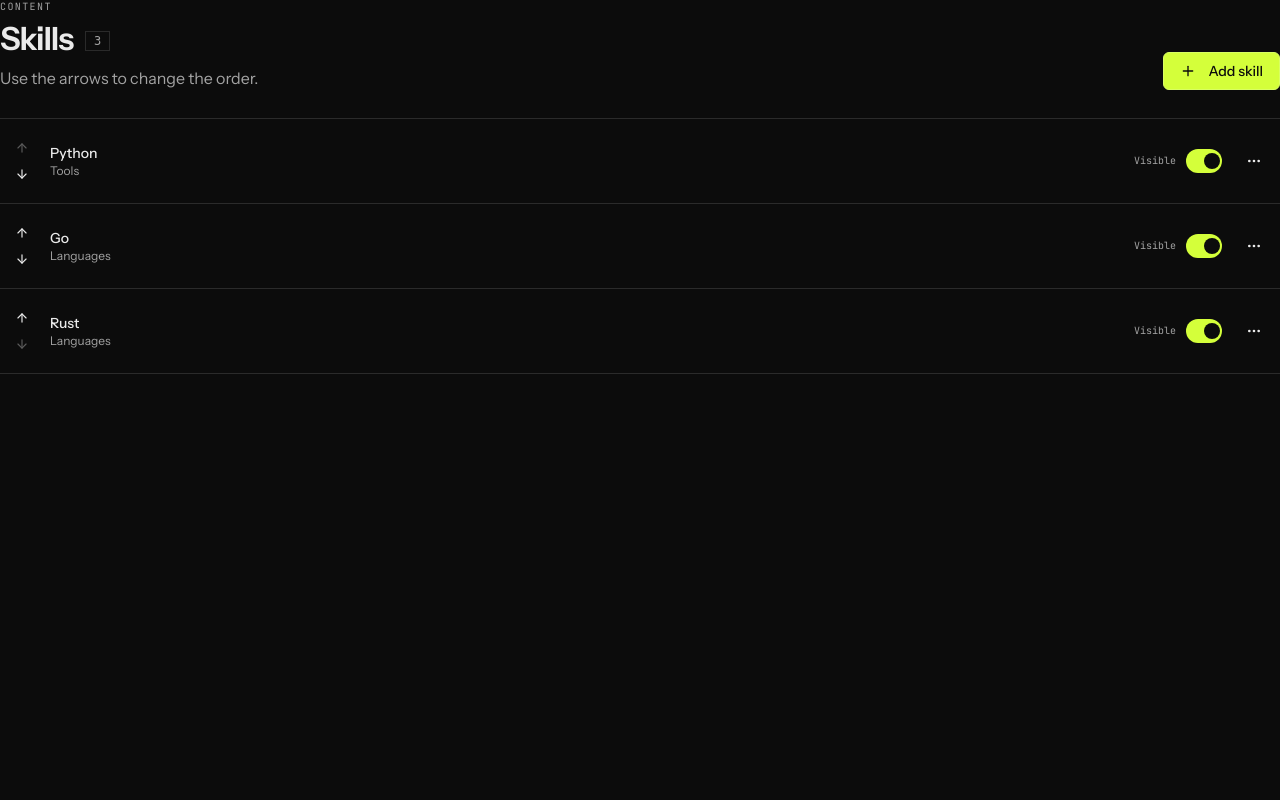
skills form › category datalist offers existing categories
Click the text "Python".
click(74, 153)  # box [50,143,98,163]
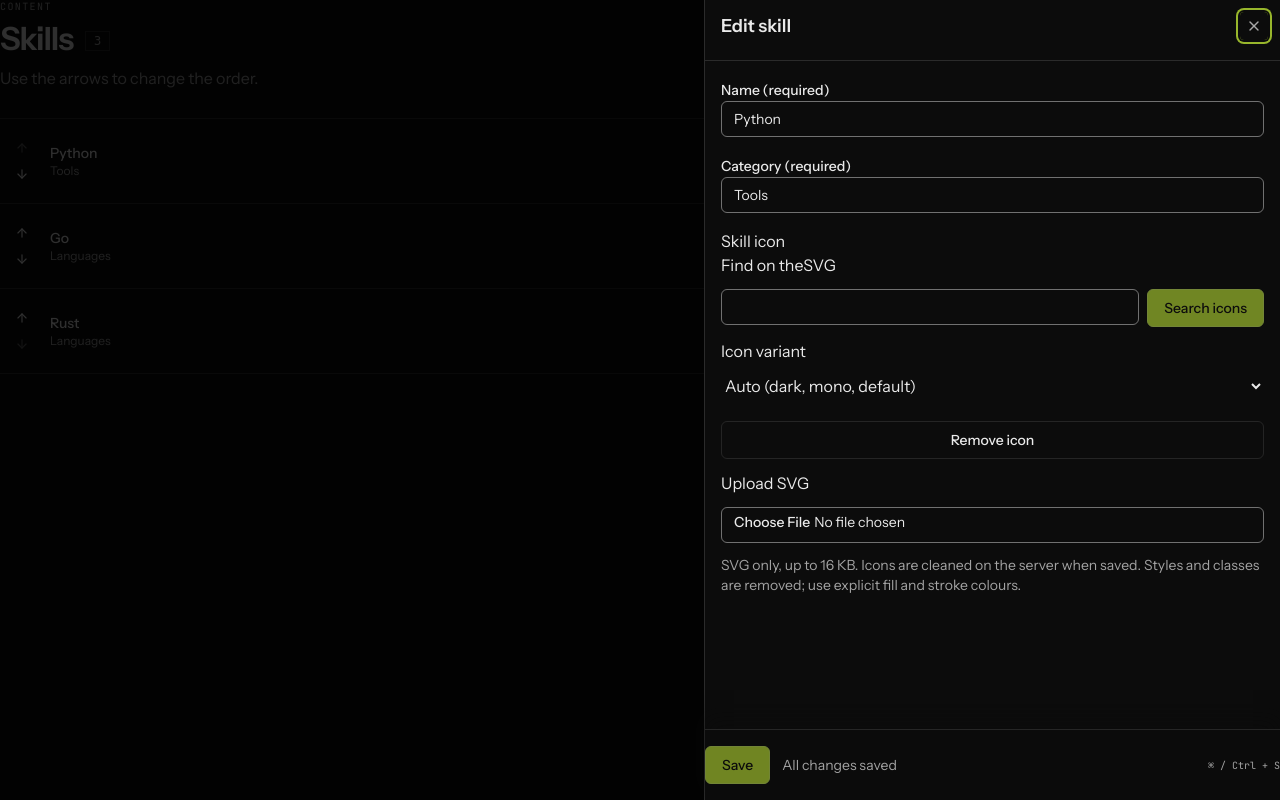
Now the field labelled "Find on theSVG" is shown, box [721,289,1139,325]
